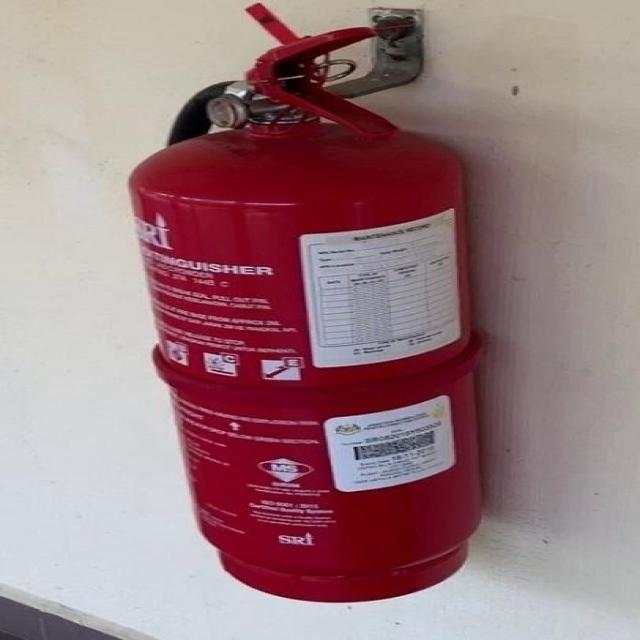fire_extinguisher: (117, 1, 496, 605)
